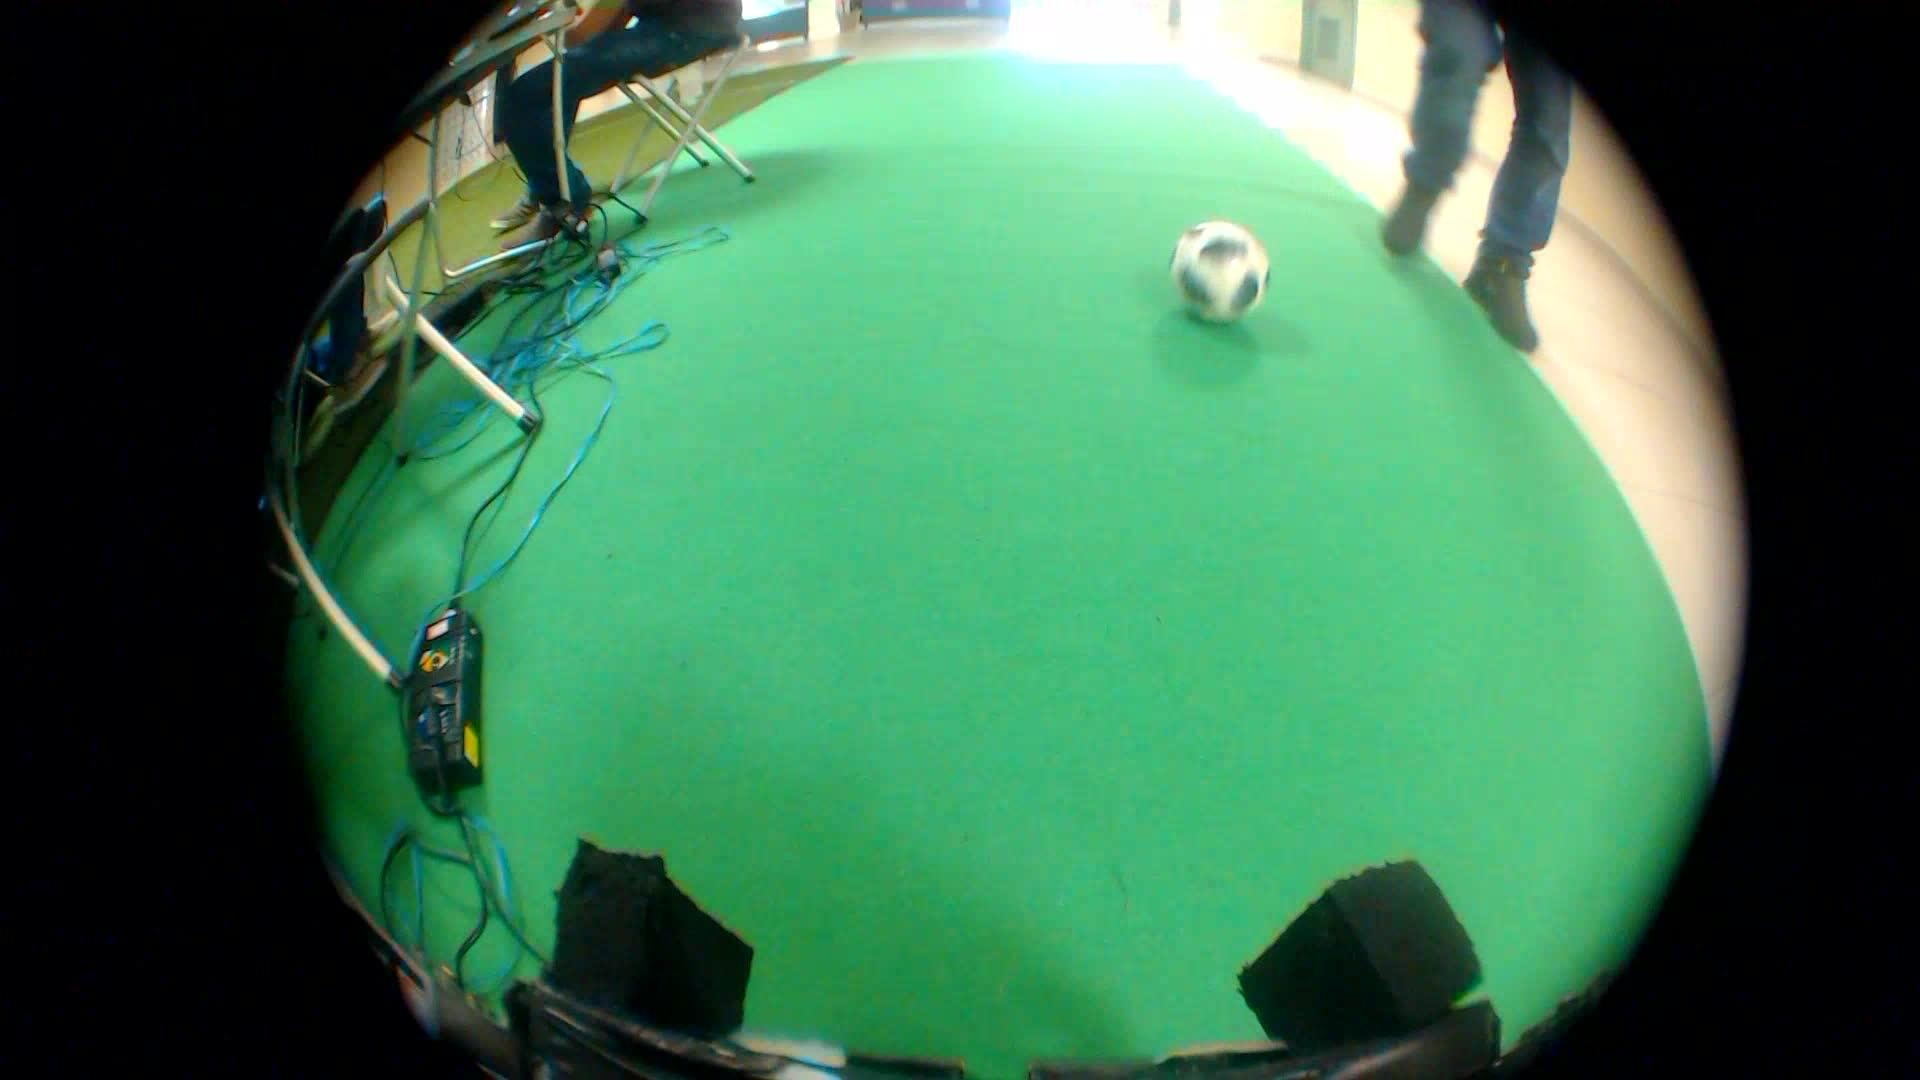ball: (1160, 207, 1280, 327)
